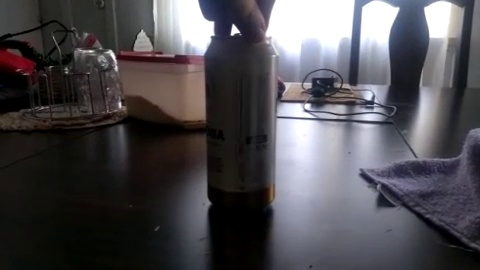bohemia: (188, 33, 288, 216)
